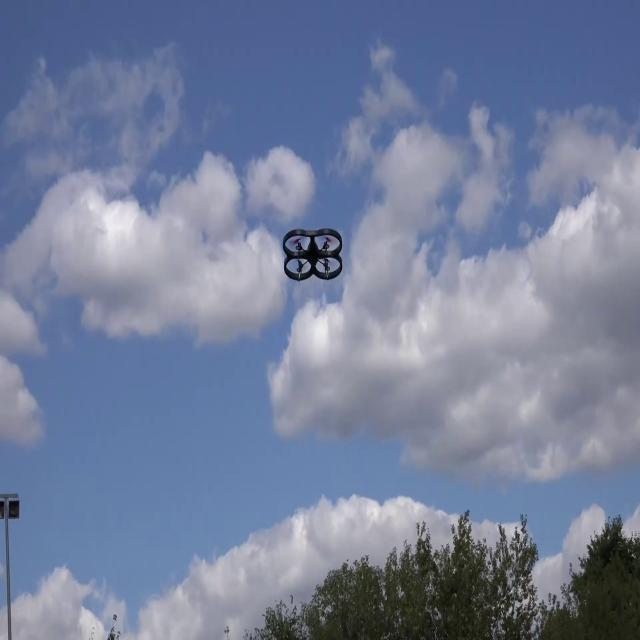Drons: (279, 223, 349, 291)
